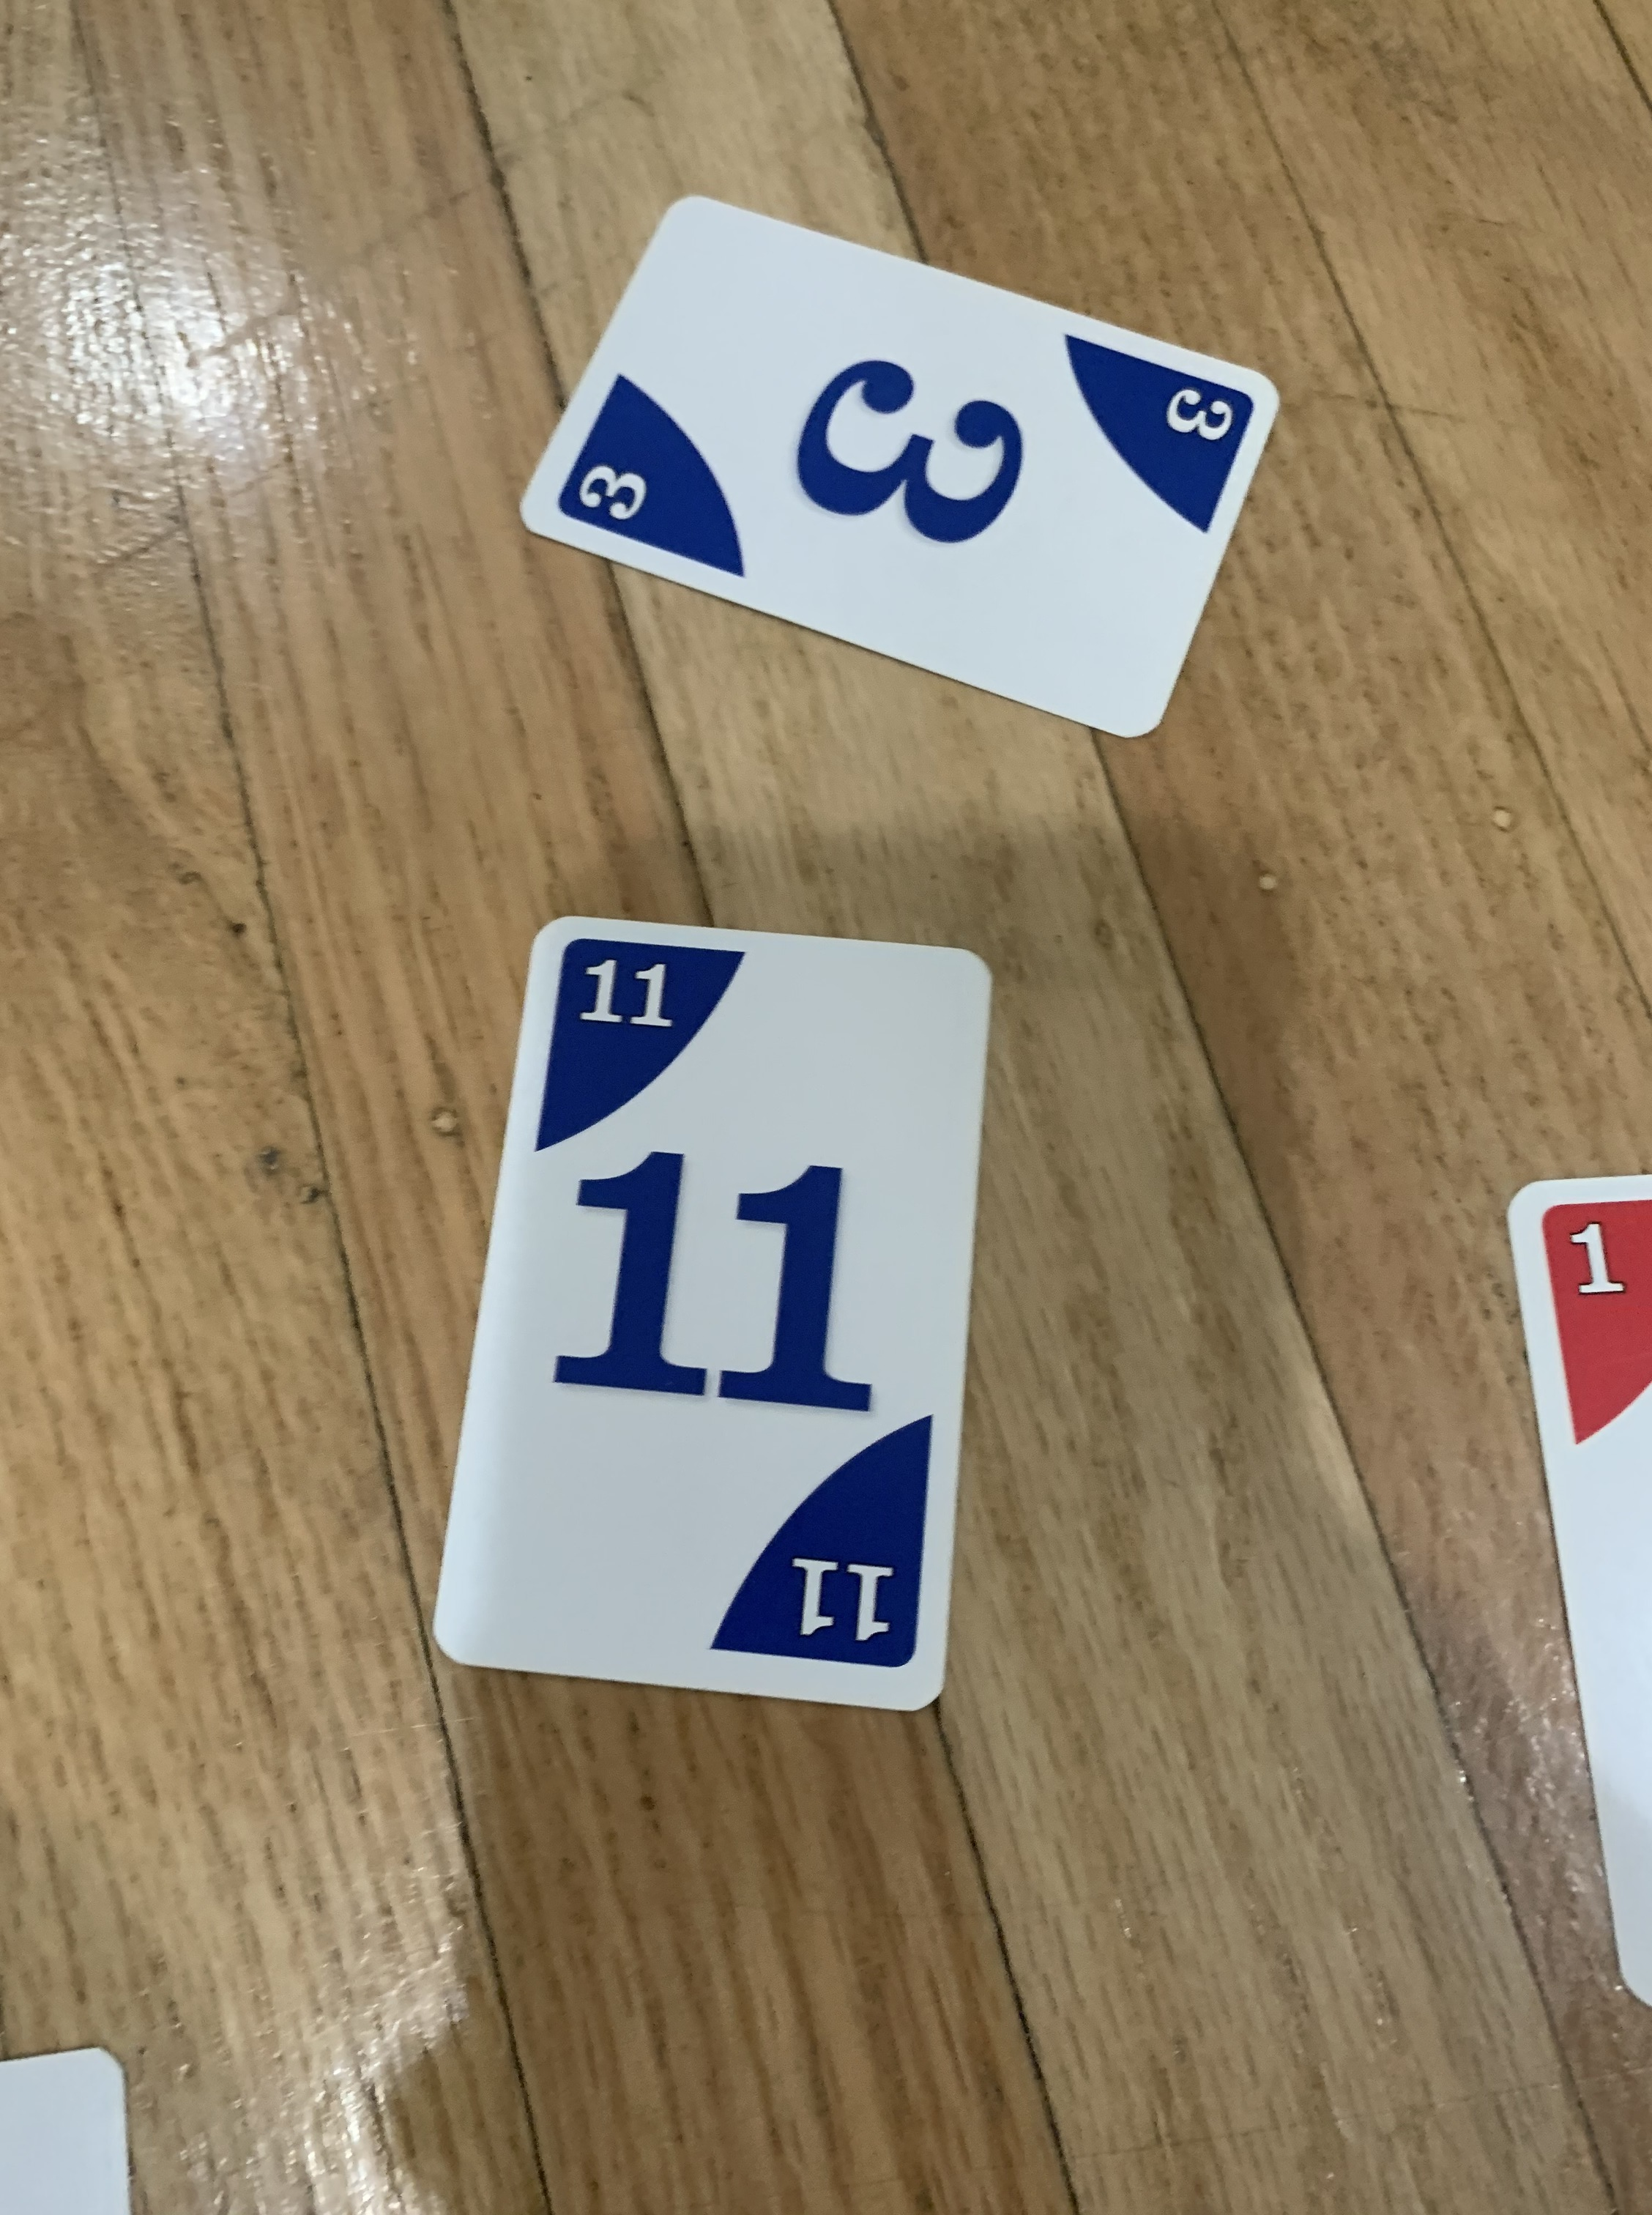eleven: (429, 911, 1000, 1717)
